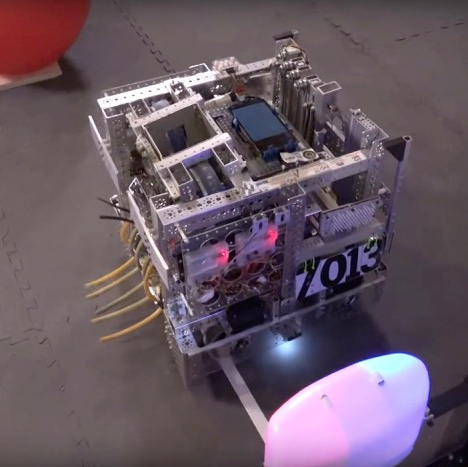robot: (75, 25, 417, 390)
